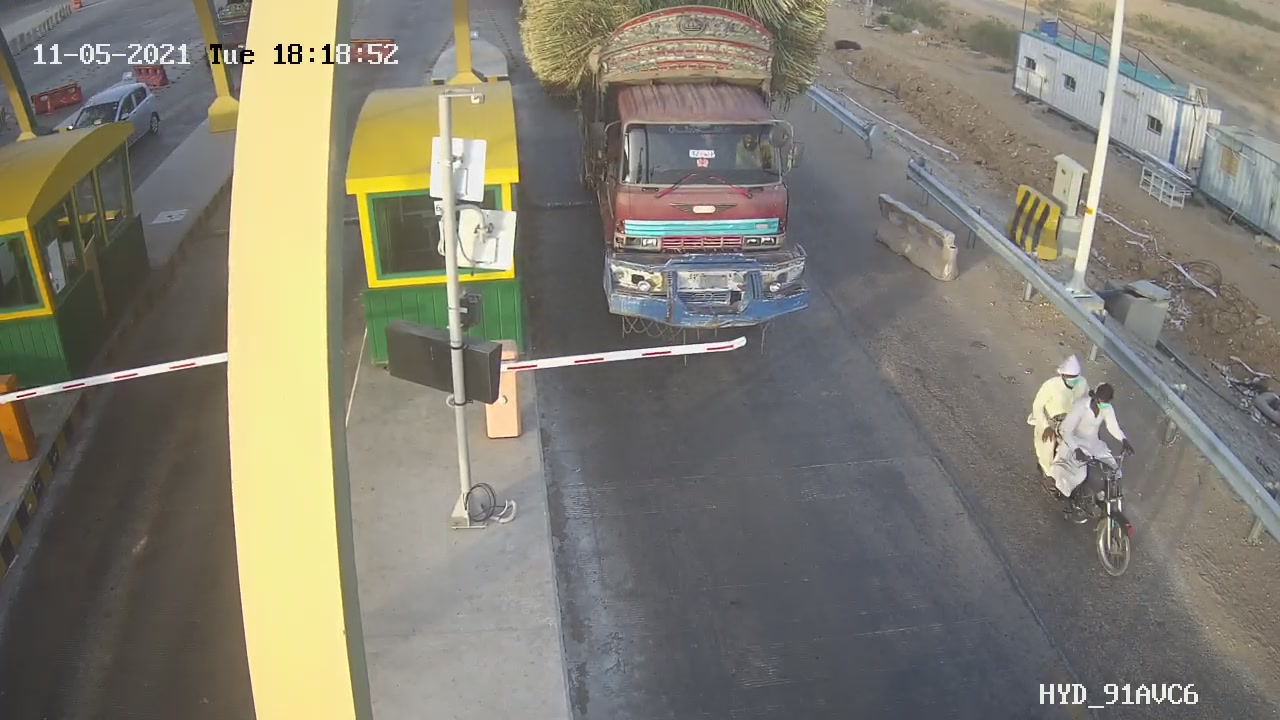F5: (568, 6, 819, 339)
